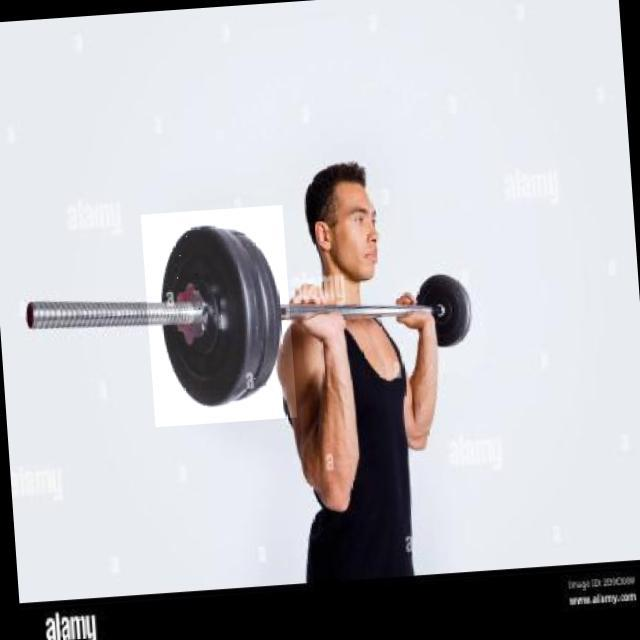barbell: (141, 206, 298, 428)
